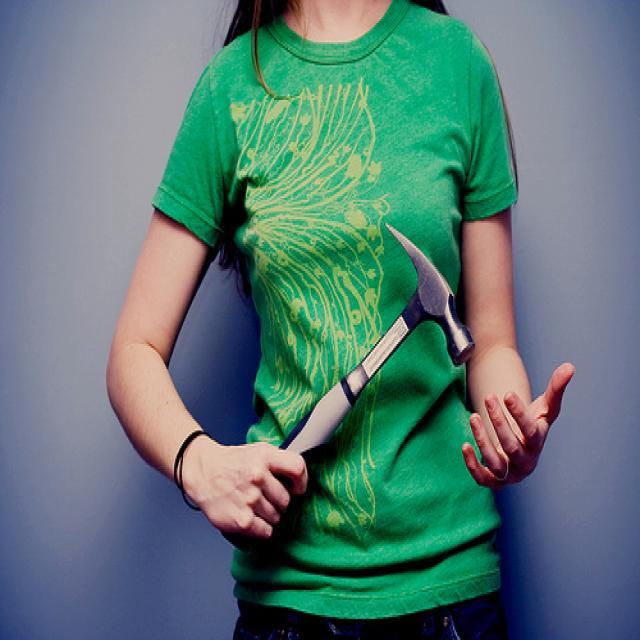hammer: (242, 208, 486, 504)
